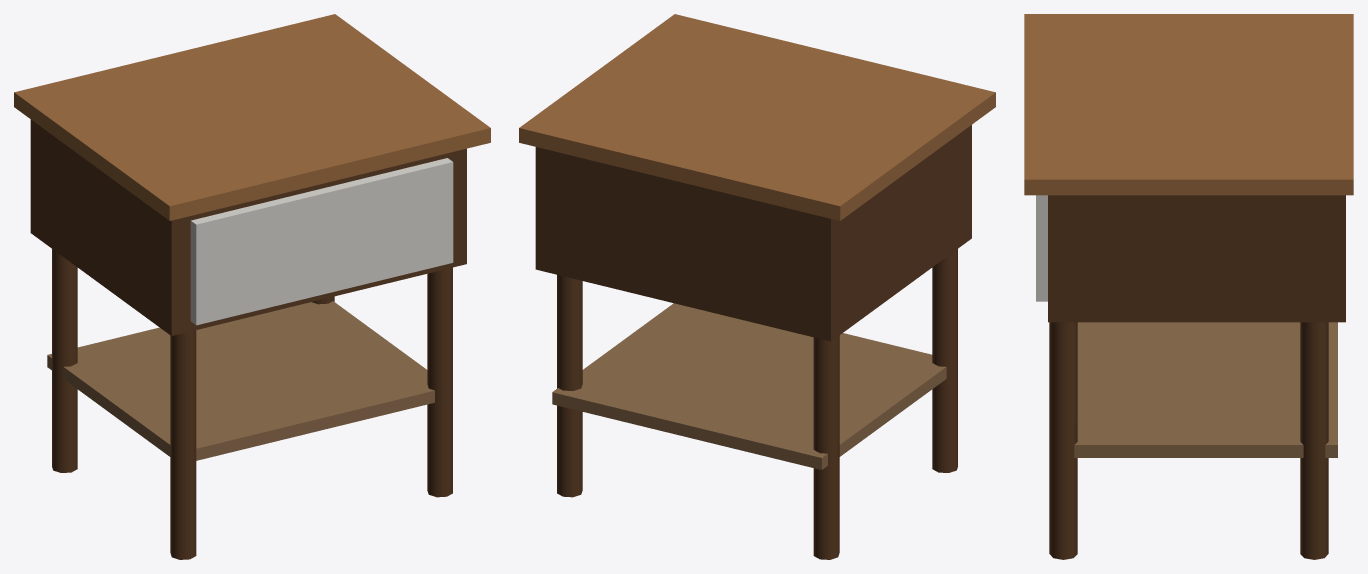
Rendered from nightstand-lite.glb.
The picture shows the model from 3 angles, left to right: view 1: azimuth 30°, elevation 25°; view 2: azimuth 150°, elevation 25°; view 3: azimuth 270°, elevation 25°; orthographic projection. The views are drawn at different scales.
Visible parts, largest first — view 1: material-3-top, material-5-shelf, material-2-drawer, material-1-body, material-0-leg; view 2: material-3-top, material-1-body, material-5-shelf, material-0-leg; view 3: material-3-top, material-1-body, material-5-shelf, material-0-leg, material-2-drawer.
Part boxes in pixels (x1,y1,x2,y2): material-3-top: [14, 14, 490, 220]; material-5-shelf: [47, 301, 434, 460]; material-2-drawer: [190, 158, 453, 325]; material-1-body: [30, 119, 466, 335]; material-0-leg: [52, 249, 452, 559]; material-3-top: [519, 14, 995, 220]; material-1-body: [535, 125, 971, 341]; material-5-shelf: [552, 303, 946, 469]; material-0-leg: [557, 249, 957, 559]; material-3-top: [1024, 14, 1353, 195]; material-1-body: [1048, 195, 1345, 322]; material-5-shelf: [1074, 322, 1337, 457]; material-0-leg: [1049, 322, 1328, 559]; material-2-drawer: [1036, 195, 1047, 301].
Bounding box in the file's own units: 0.5 × 0.55 × 0.42.
